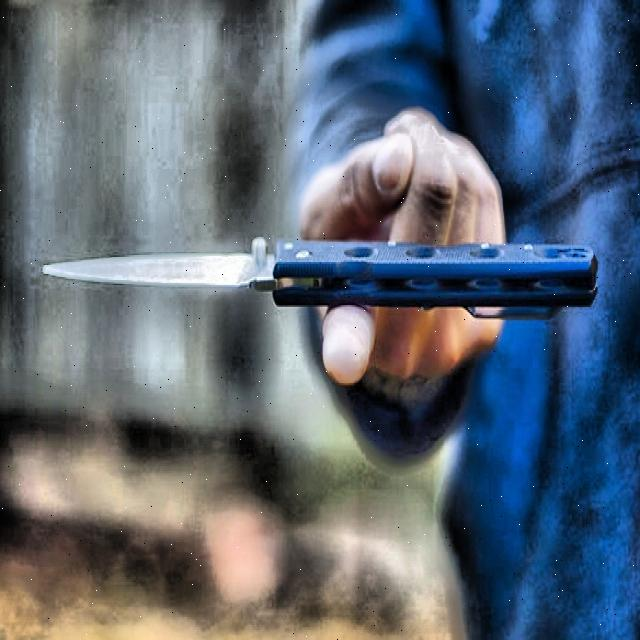knife: (45, 236, 600, 322)
